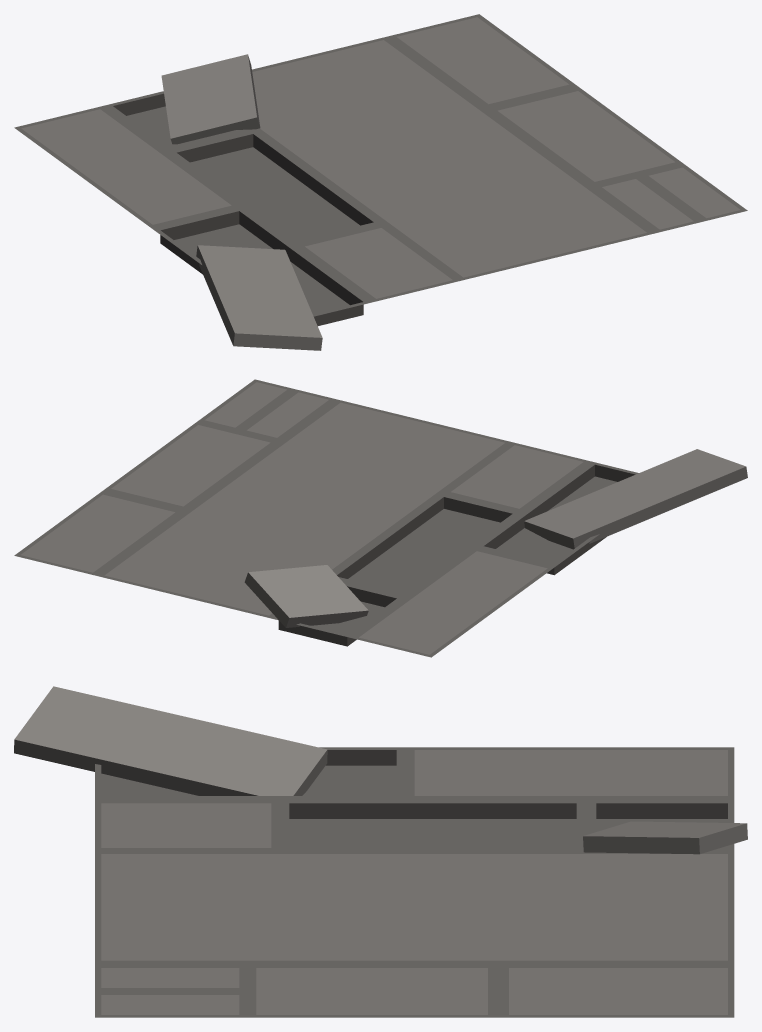
The model's file is SD_Env_Floor_Stone_Broken_02.fbx.
The picture shows the model from 3 angles, top to bottom: view 1: azimuth 30°, elevation 25°; view 2: azimuth 150°, elevation 25°; view 3: azimuth 270°, elevation 25°; orthographic projection. The views are drawn at different scales.
Parts seen in each view (by area): view 1: SD_Env_Floor_Stone_Broken_02; view 2: SD_Env_Floor_Stone_Broken_02; view 3: SD_Env_Floor_Stone_Broken_02.
Part boxes in pixels (x1=…): SD_Env_Floor_Stone_Broken_02: x1=14, y1=14, x2=747, y2=350; SD_Env_Floor_Stone_Broken_02: x1=14, y1=379, x2=747, y2=657; SD_Env_Floor_Stone_Broken_02: x1=14, y1=686, x2=747, y2=1017.
Bounding box in the file's own units: 5.72 × 0.5114 × 5.74.
